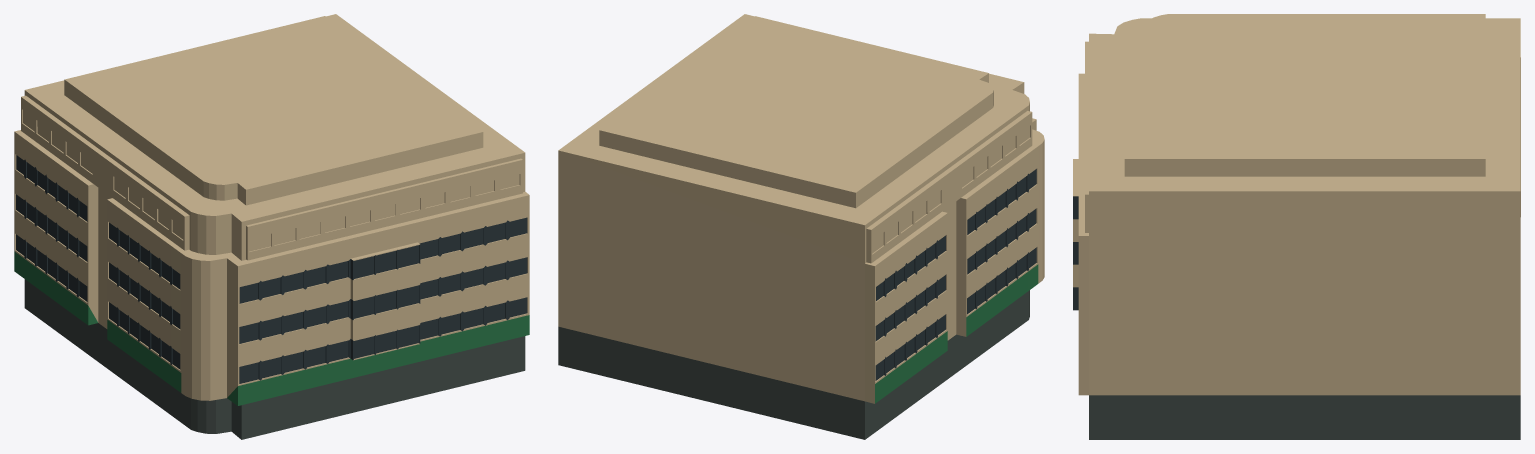
The model's file is subway.glb.
3 renders of one model, left to right at view 1: azimuth 30°, elevation 25°; view 2: azimuth 150°, elevation 25°; view 3: azimuth 270°, elevation 25°, orthographic. The views are drawn at different scales.
Visible parts, largest first — view 1: Cube.002; view 2: Cube.002; view 3: Cube.002.
Part boxes in pixels (x1,y1,x2,y2): Cube.002: (14, 14, 529, 439); Cube.002: (558, 14, 1044, 439); Cube.002: (1073, 14, 1520, 439).
Size of the model in its own units: 20.68 by 14.36 by 21.87.
